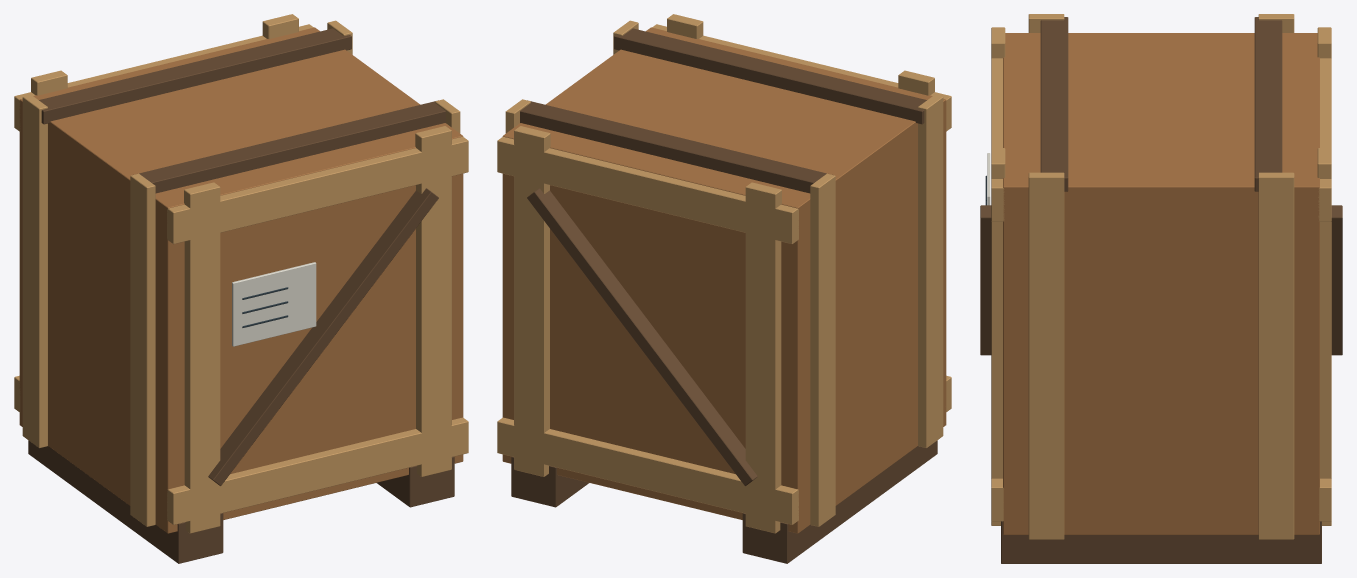
Rendered from b14_braced_wood_shipping_crate.glb.
3 views of the same model, side by side, from view 1: azimuth 30°, elevation 25°; view 2: azimuth 150°, elevation 25°; view 3: azimuth 270°, elevation 25° (orthographic). The views are drawn at different scales.
Visible parts, largest first — view 1: b14_braced_wood_shipping_crate; view 2: b14_braced_wood_shipping_crate; view 3: b14_braced_wood_shipping_crate.
Boxes of the visible parts, bbox=[...] form: b14_braced_wood_shipping_crate: bbox=[14, 14, 468, 563]; b14_braced_wood_shipping_crate: bbox=[497, 14, 951, 563]; b14_braced_wood_shipping_crate: bbox=[980, 14, 1342, 563].
Size of the model in its own units: 0.976 by 1.11 by 0.914.
